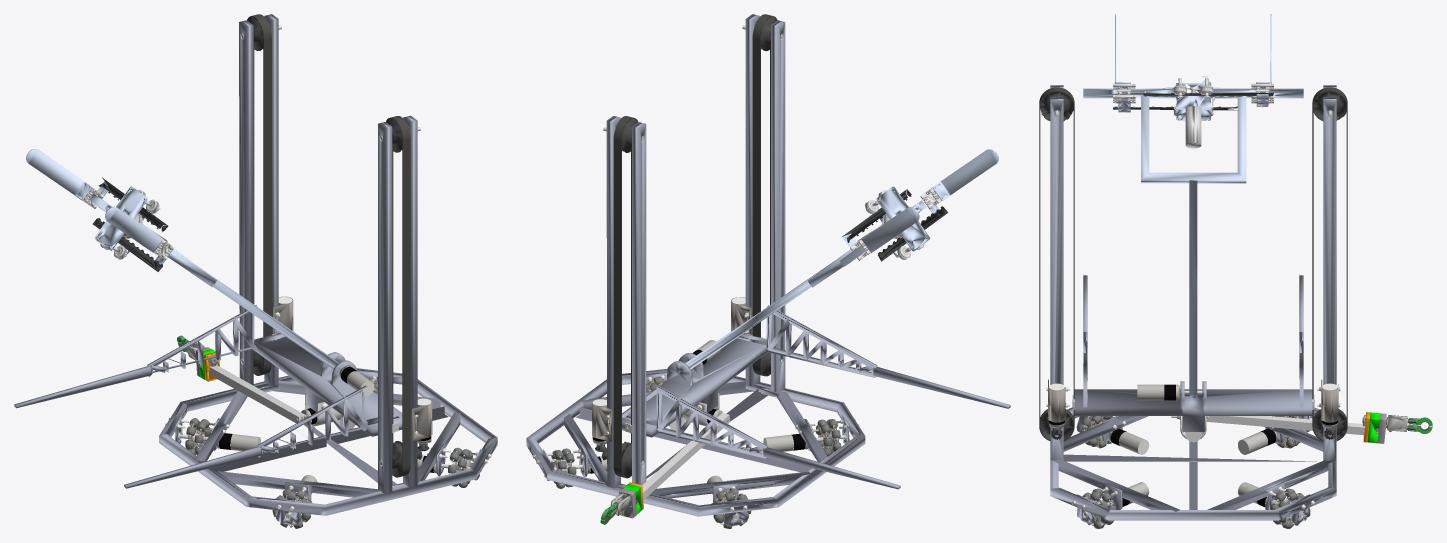
The model's file is robocon-r1.glb.
3 views of the same model, side by side, from view 1: azimuth 30°, elevation 25°; view 2: azimuth 150°, elevation 25°; view 3: azimuth 270°, elevation 25° (orthographic).
Parts seen in each view (by area): view 1: shaft-9; view 2: shaft-9; view 3: shaft-9, motor-2.
Part boxes in pixels (left/top/right/bottom): shaft-9: left=14, top=14, right=497, bottom=528; shaft-9: left=526, top=14, right=1010, bottom=528; shaft-9: left=1039, top=14, right=1432, bottom=528; motor-2: left=1049, top=383, right=1337, bottom=454.
Bounding box in the file's own units: 1 × 0.9944 × 0.8931.
2 materials, 2 textured.
